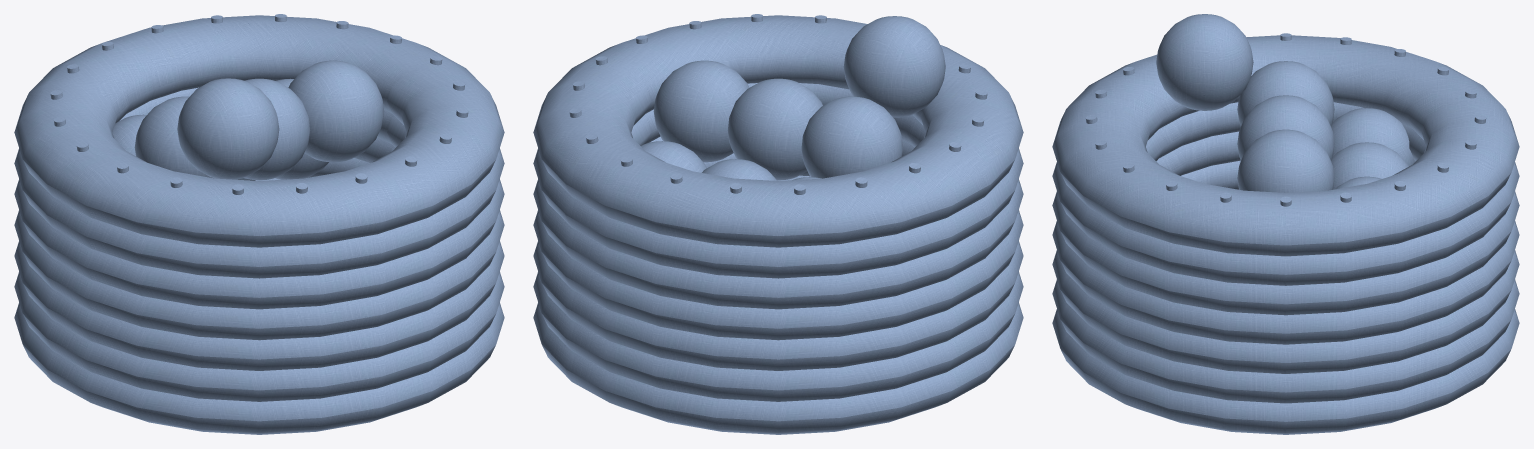
The model's file is cesto_frutos.glb.
3 renders of one model, left to right at view 1: azimuth 30°, elevation 25°; view 2: azimuth 150°, elevation 25°; view 3: azimuth 270°, elevation 25°, orthographic. The views are drawn at different scales.
Visible parts, largest first — view 1: Trama circular.006, Trama circular.005, Trama circular, Trama circular.004, Trama circular.003, Trama circular.002, Trama circular.001, Fruto.006, Fruto.005, Fruto.004, Fruto.003, Fruto (+1 smaller); view 2: Trama circular.006, Trama circular.005, Trama circular, Trama circular.003, Trama circular.004, Trama circular.002, Trama circular.001, Fruto.006, Fruto.005, Fruto.004, Fruto.003, Fruto.002 (+1 smaller); view 3: Trama circular.006, Trama circular.005, Trama circular.004, Trama circular.003, Trama circular, Trama circular.001, Trama circular.002, Fruto.006, Fruto.005, Fruto.004, Fruto.003, Fruto (+1 smaller).
Boxes of the visible parts, x1,y1,x2,y2 form: Trama circular.006: [14, 15, 504, 247]; Trama circular.005: [14, 87, 504, 278]; Trama circular: [14, 302, 504, 434]; Trama circular.004: [14, 136, 504, 309]; Trama circular.003: [14, 158, 504, 340]; Trama circular.002: [14, 178, 504, 370]; Trama circular.001: [14, 271, 504, 401]; Fruto.006: [177, 78, 279, 179]; Fruto.005: [288, 60, 384, 162]; Fruto.004: [244, 78, 310, 180]; Fruto.003: [134, 96, 213, 178]; Fruto: [112, 114, 146, 155]; Trama circular.006: [533, 15, 1023, 247]; Trama circular.005: [533, 83, 1023, 278]; Trama circular: [533, 302, 1023, 434]; Trama circular.003: [533, 153, 1023, 340]; Trama circular.004: [533, 136, 1023, 309]; Trama circular.002: [533, 175, 1023, 370]; Trama circular.001: [533, 271, 1023, 401]; Fruto.006: [843, 16, 945, 117]; Fruto.005: [653, 60, 749, 162]; Fruto.004: [727, 78, 822, 180]; Fruto.003: [801, 96, 903, 178]; Fruto.002: [641, 141, 706, 172]; Trama circular.006: [1052, 35, 1519, 256]; Trama circular.005: [1052, 102, 1519, 285]; Trama circular.004: [1052, 131, 1519, 315]; Trama circular.003: [1052, 160, 1519, 344]; Trama circular: [1052, 309, 1519, 434]; Trama circular.001: [1052, 279, 1519, 403]; Trama circular.002: [1052, 250, 1519, 373]; Fruto.006: [1156, 14, 1253, 110]; Fruto.005: [1237, 129, 1334, 192]; Fruto.004: [1237, 95, 1334, 160]; Fruto.003: [1237, 61, 1334, 126]; Fruto: [1331, 108, 1414, 166].
Size of the model in its own units: 1.44 by 1.02 by 1.44.
Materials: 2 (2 with a texture image).
